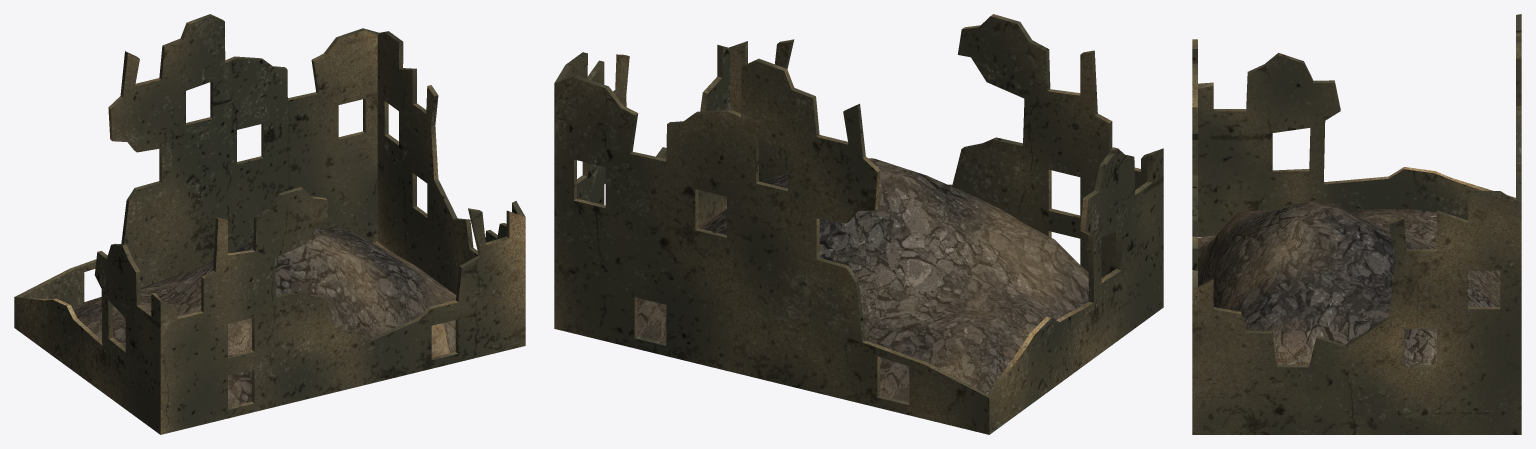
File: bldg_03.fbx
3 renders of one model, left to right at view 1: azimuth 30°, elevation 25°; view 2: azimuth 150°, elevation 25°; view 3: azimuth 270°, elevation 25°, orthographic. The views are drawn at different scales.
Parts seen in each view (by area): view 1: bldg_03, rubble; view 2: bldg_03, rubble; view 3: bldg_03, rubble.
Boxes of the visible parts, x1=… form: bldg_03: x1=14, y1=14, x2=525, y2=434; rubble: x1=73, y1=227, x2=456, y2=407; bldg_03: x1=554, y1=14, x2=1163, y2=434; rubble: x1=637, y1=158, x2=1088, y2=402; bldg_03: x1=1192, y1=14, x2=1521, y2=434; rubble: x1=1198, y1=201, x2=1500, y2=364.
Bounding box in the file's own units: 2129 × 1491 × 1477.
